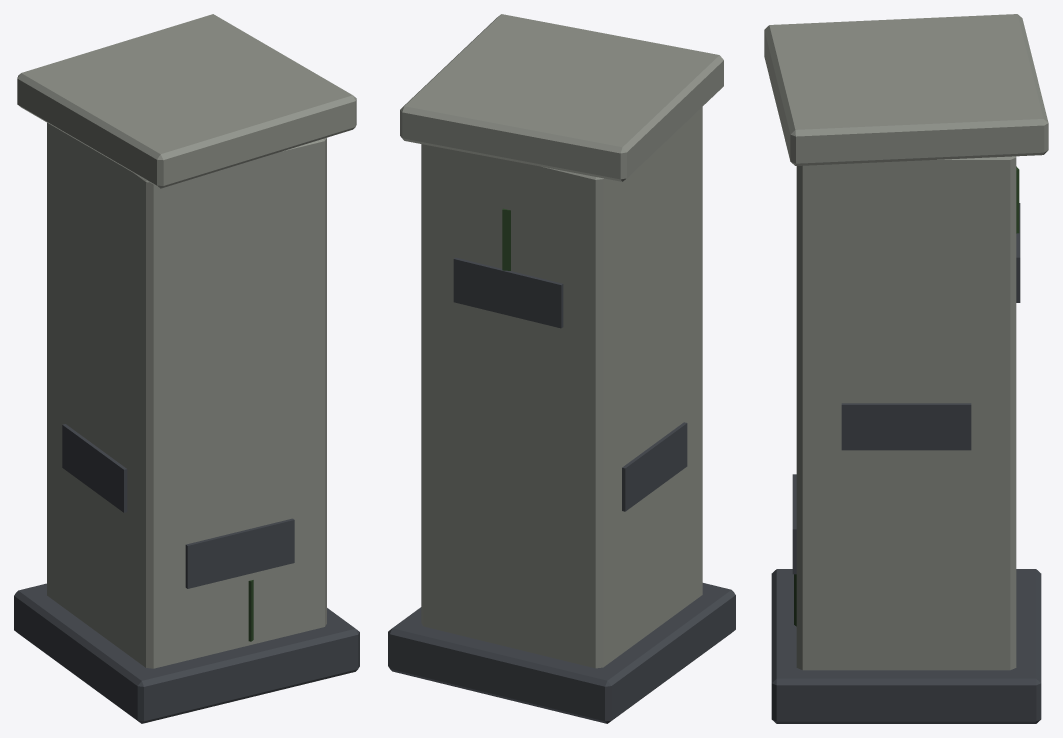
File: env_pillar.glb
3 views of the same model, side by side, from view 1: azimuth 30°, elevation 25°; view 2: azimuth 150°, elevation 25°; view 3: azimuth 270°, elevation 25° (orthographic). The views are drawn at different scales.
Parts seen in each view (by area): view 1: pillar; view 2: pillar; view 3: pillar.
Boxes of the visible parts, x1=… form: pillar: x1=14, y1=14, x2=359, y2=723; pillar: x1=388, y1=14, x2=735, y2=723; pillar: x1=764, y1=14, x2=1048, y2=723.
Bounding box in the file's own units: 2.85 × 6.6 × 2.85.
1 material, 1 textured.
